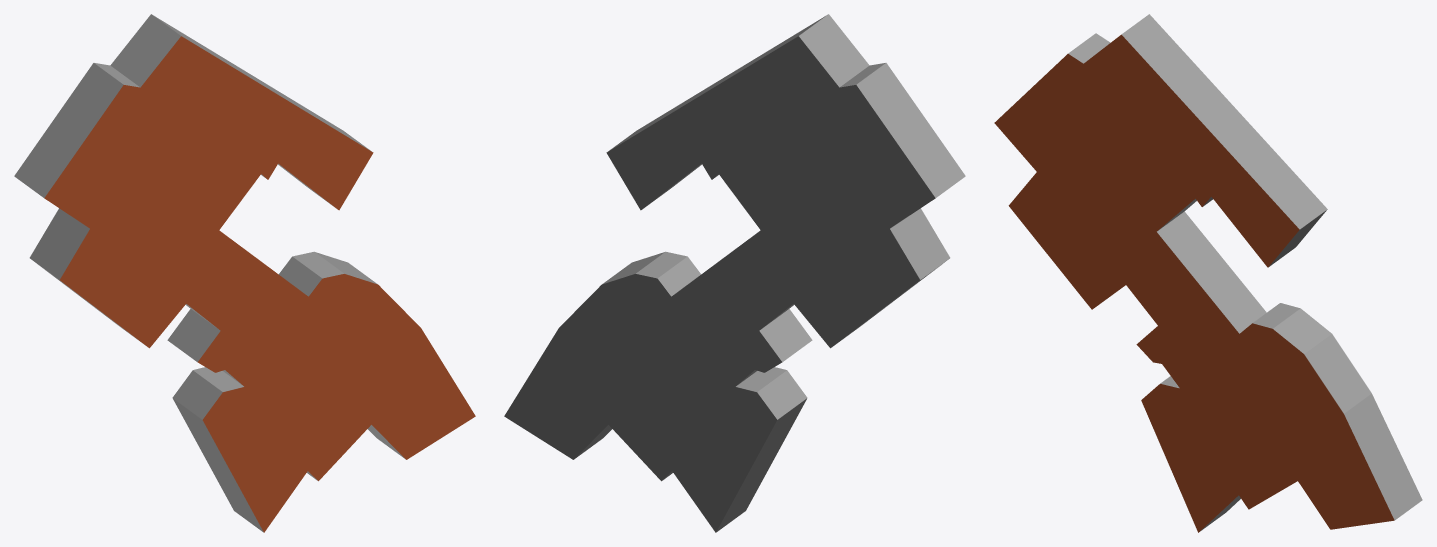
The model's file is construction_2215_assumed_A_Casa_h6m.obj.
The picture shows the model from 3 angles, left to right: view 1: azimuth 30°, elevation 25°; view 2: azimuth 150°, elevation 25°; view 3: azimuth 330°, elevation 25°; orthographic projection. The views are drawn at different scales.
Visible parts, largest first — view 1: construction_2215_assumed_A_Casa; view 2: construction_2215_assumed_A_Casa; view 3: construction_2215_assumed_A_Casa.
Boxes of the visible parts, box(x1,y1,x2,y2) form: construction_2215_assumed_A_Casa: box(14, 14, 475, 532); construction_2215_assumed_A_Casa: box(504, 14, 965, 532); construction_2215_assumed_A_Casa: box(994, 14, 1422, 532).
Bounding box in the file's own units: 49.58 × 56.77 × 6.
